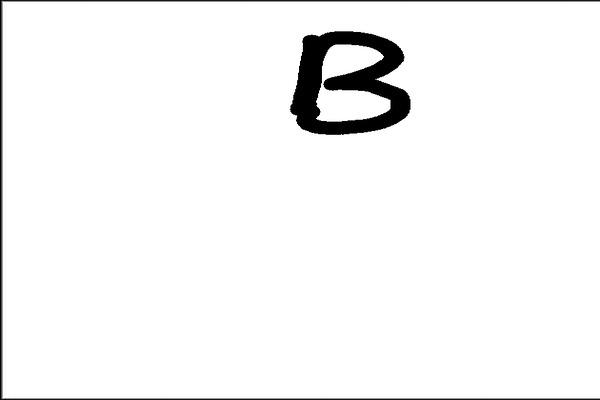B: (281, 20, 417, 139)
